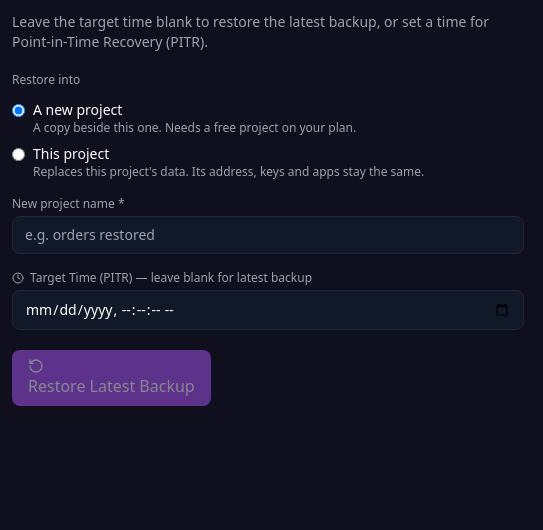
Test: RestoreForm progress › a copy that is running cannot be started again
The image size is (543, 530).
Type "copy" into the field labelled "New project name *" at (268, 235), box [12,216,524,254]
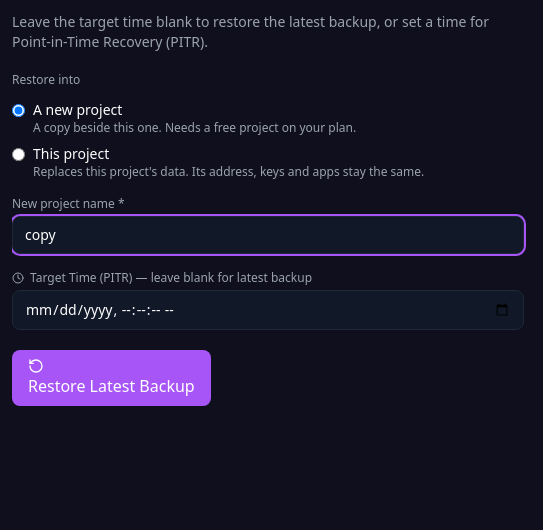
Click the button "Restore Latest Backup" at (111, 378), box [12,350,211,406]
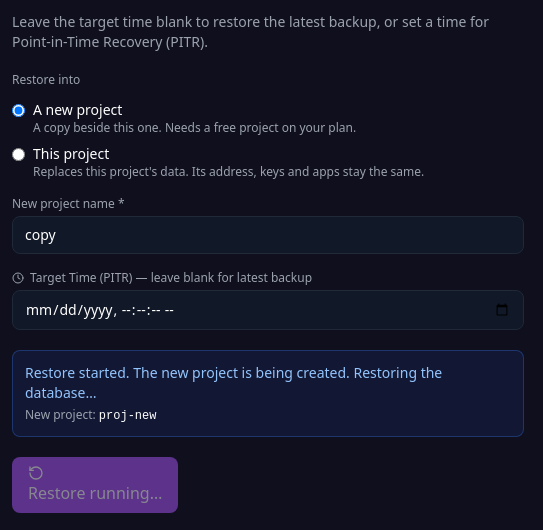
Now the element with test id "restore-result" is shown, box [12,350,524,437]
Now the button "Restore running…" is disabled, box [12,457,178,513]
Now the element with test id "restore-result" shows "Restoring the database", box [25,363,442,402]
